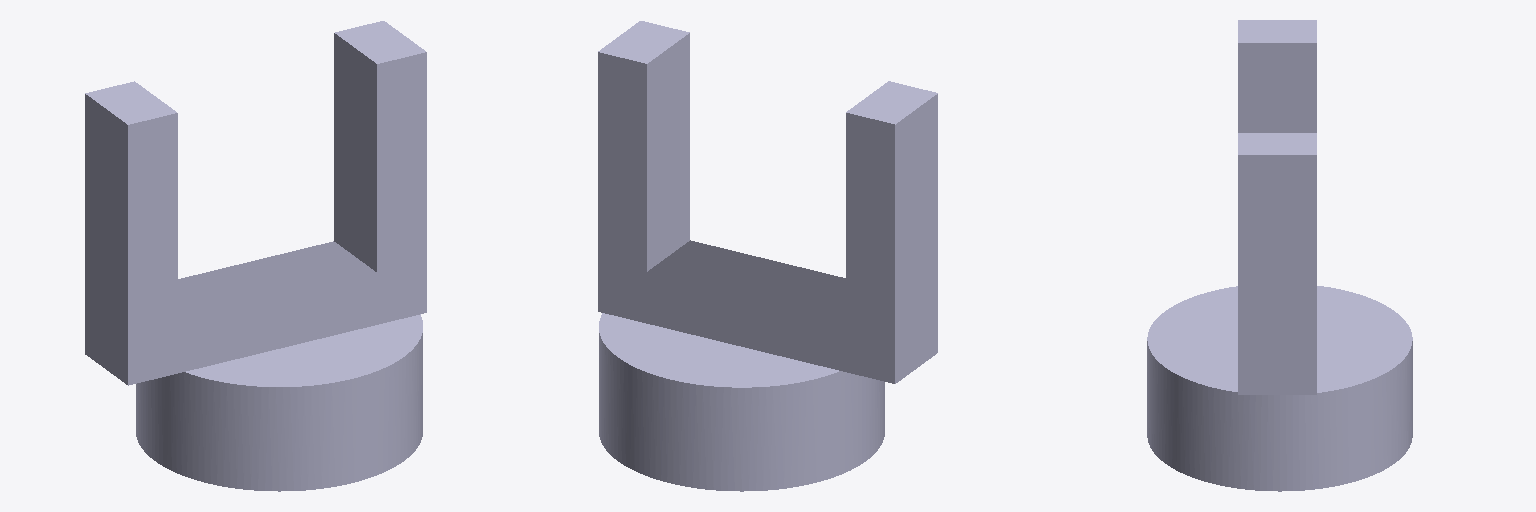
The robot description file, URDF, robot "my_robot_arm":
<?xml version="1.0" ?>
<robot name="my_robot_arm">
  <!--Generated by CROSS, a ROS Workbench for FreeCAD (https://github.com/galou/freecad.cross)-->
  <link name="base_link">
    <visual>
      <!--base_link_part/Body.-->
      <origin rpy="0.0 -0.0 0.0" xyz="0.0 0.0 0.0"/>
      <geometry>
        <mesh filename="package://my_robot_arm/meshes/Unnamed_base_link_body.dae"/>
      </geometry>
    </visual>
    <collision>
      <!--base_link_part/Body.-->
      <origin rpy="0.0 -0.0 0.0" xyz="0.0 0.0 0.0"/>
      <geometry>
        <mesh filename="package://my_robot_arm/meshes/Unnamed_base_link_body.dae"/>
      </geometry>
    </collision>
    <inertial>
      <mass value="0.0"/>
      <origin rpy="0.0 -0.0 0.0" xyz="0.0 0.0 0.0"/>
      <inertia ixx="0.0" ixy="0.0" ixz="0.0" iyy="0.0" iyz="0.0" izz="0.0"/>
    </inertial>
  </link>
  <link name="finger_link">
    <visual>
      <!--finger_part/Body001.-->
      <origin rpy="0.0 -0.0 0.0" xyz="0.0 0.0 0.0"/>
      <geometry>
        <mesh filename="package://my_robot_arm/meshes/Unnamed_finger_body.dae"/>
      </geometry>
    </visual>
    <collision>
      <!--finger_part/Body001.-->
      <origin rpy="0.0 -0.0 0.0" xyz="0.0 0.0 0.0"/>
      <geometry>
        <mesh filename="package://my_robot_arm/meshes/Unnamed_finger_body.dae"/>
      </geometry>
    </collision>
    <inertial>
      <mass value="0.0"/>
      <origin rpy="0.0 -0.0 0.0" xyz="0.0 0.0 0.0"/>
      <inertia ixx="0.0" ixy="0.0" ixz="0.0" iyy="0.0" iyz="0.0" izz="0.0"/>
    </inertial>
  </link>
  <joint name="finger_joint" type="prismatic">
    <parent link="base_link"/>
    <child link="finger_link"/>
    <origin rpy="0.0 -0.0 0.0" xyz="-0.06025 0.00575 0.06"/>
    <axis xyz="1 0 0"/>
    <limit effort="1000.0" lower="0.00" upper="0.078" velocity="1"/>
  </joint>
</robot>

--- Render facts (derived) ---
The picture shows the robot from 3 angles, left to right: view 1: azimuth 30°, elevation 25°; view 2: azimuth 150°, elevation 25°; view 3: azimuth 270°, elevation 25°; orthographic projection.
Model my_robot_arm with 2 links and 1 joints (1 prismatic), rooted at base_link, posed all joints at 0.
Visible links, largest first — view 1: base_link, finger_link; view 2: base_link, finger_link; view 3: base_link, finger_link.
Link boxes in pixels (left/top/right/bottom): base_link: left=85, top=21, right=426, bottom=491; finger_link: left=85, top=81, right=177, bottom=332; base_link: left=598, top=21, right=937, bottom=491; finger_link: left=846, top=81, right=937, bottom=331; base_link: left=1147, top=133, right=1412, bottom=491; finger_link: left=1238, top=20, right=1316, bottom=132.
Bounding box of the posed robot: 0.12 × 0.1 × 0.14 m (x, y, z).
2 mesh visuals loaded from 2 distinct referenced files (2 Collada DAE).
